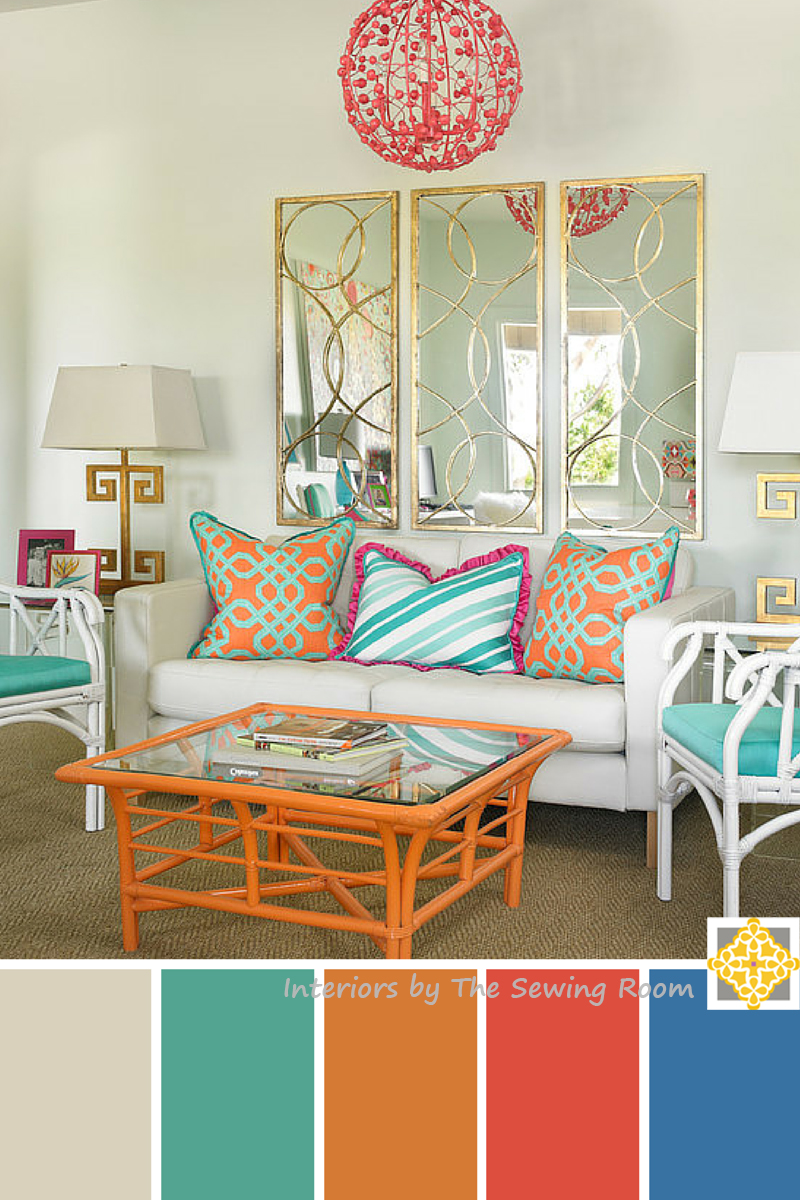hijau: (678, 711, 800, 769), (1, 646, 95, 700)
putih: (116, 528, 667, 732), (49, 362, 211, 455), (715, 354, 800, 458)
